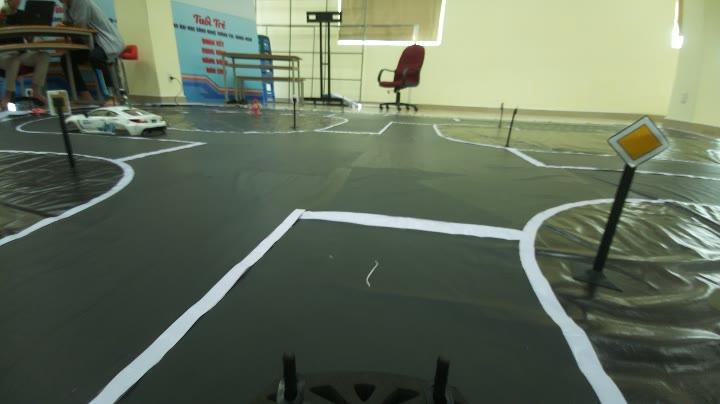priority: (608, 111, 674, 175)
